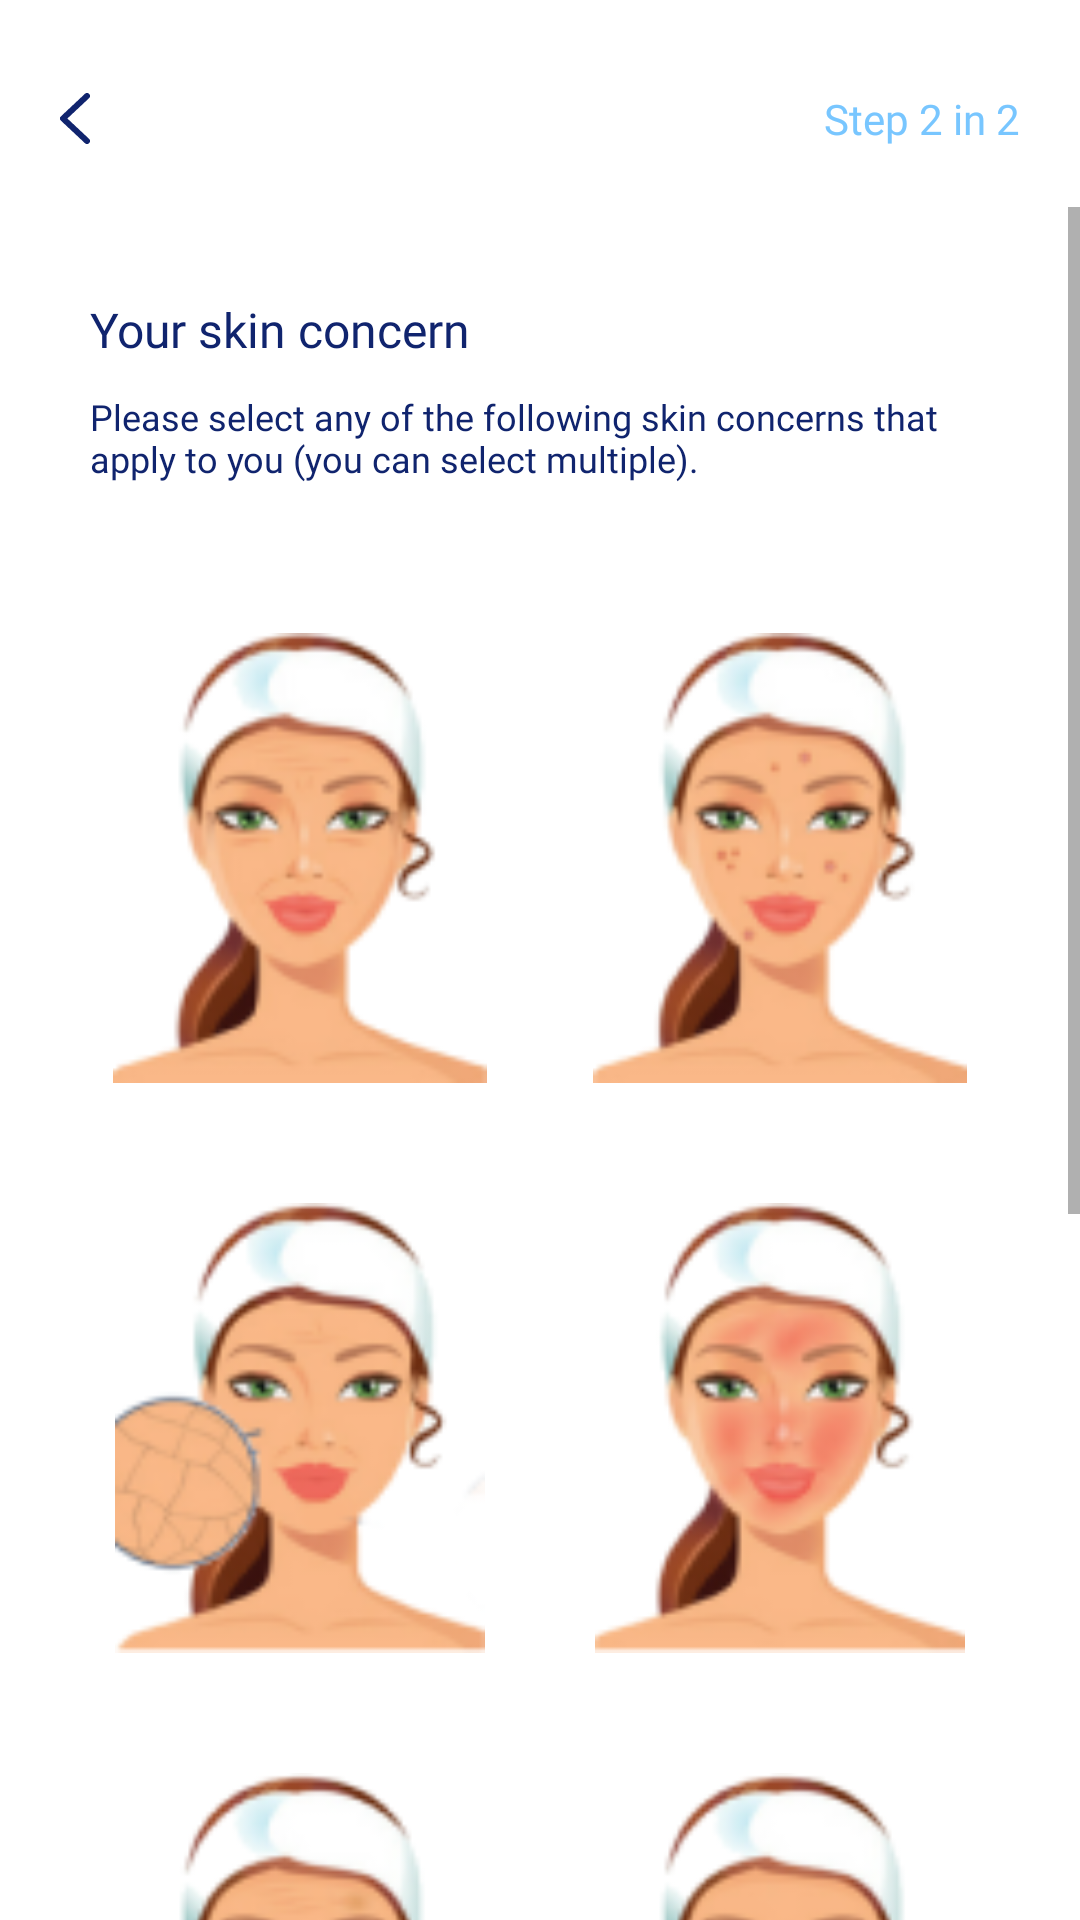

Screen size 1080×1920. Icon name, then its center in pixels as [x,y]:
back: [75,118]
